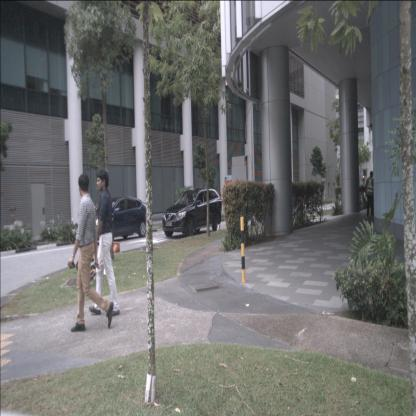human-pedestrian-adult: (70, 174, 114, 333), (88, 170, 120, 316)
vehicle-car: (162, 188, 223, 238), (92, 195, 150, 241)
